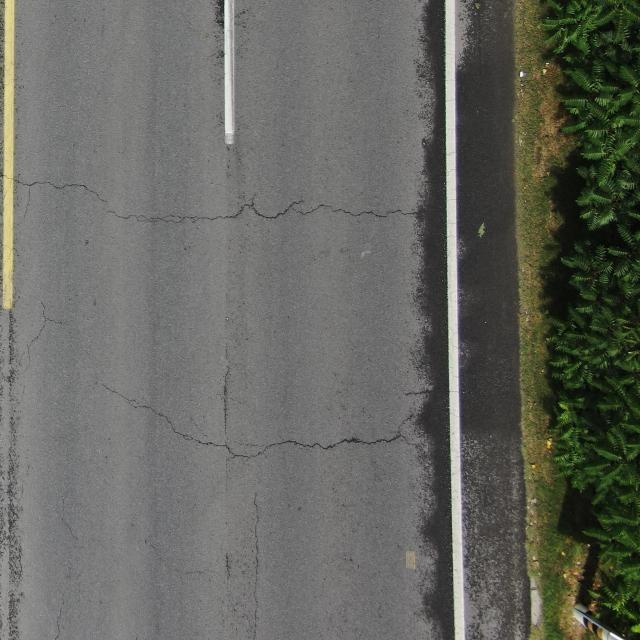GRIETA: (100, 383, 401, 458), (111, 200, 416, 223), (8, 309, 22, 639), (0, 174, 107, 204), (15, 295, 48, 378), (253, 493, 259, 639), (223, 362, 230, 444), (49, 319, 73, 324)
PARCHE: (457, 63, 519, 430)
